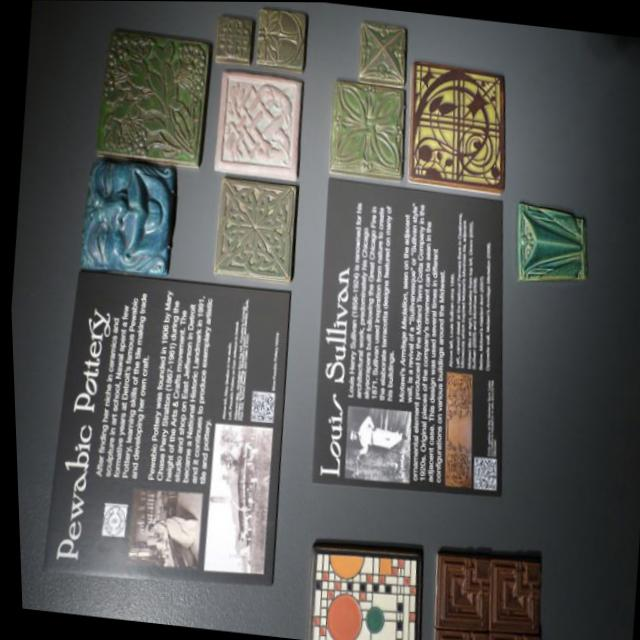qrcode: (467, 457, 495, 490), (249, 391, 274, 421)
